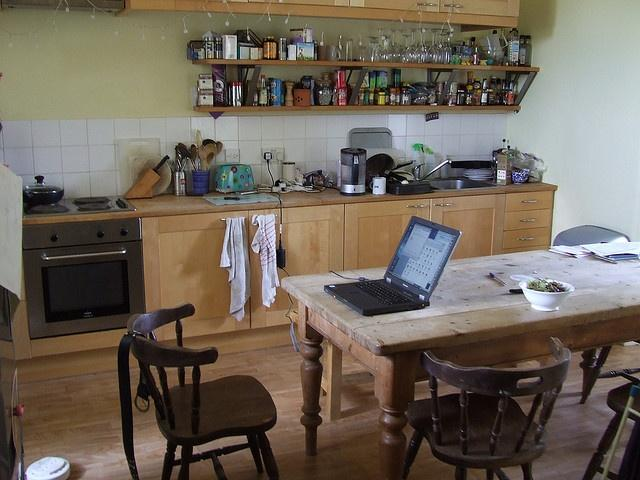Kursi: (125, 302, 281, 479), (402, 335, 572, 479)
Meja: (279, 239, 639, 407)
